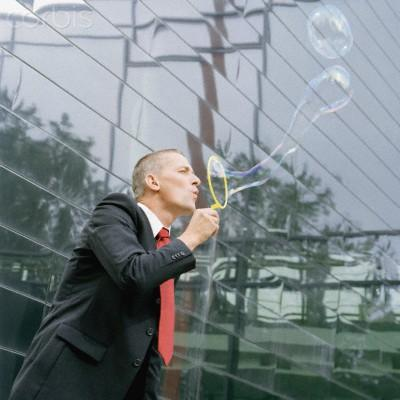person: (1, 144, 223, 398)
